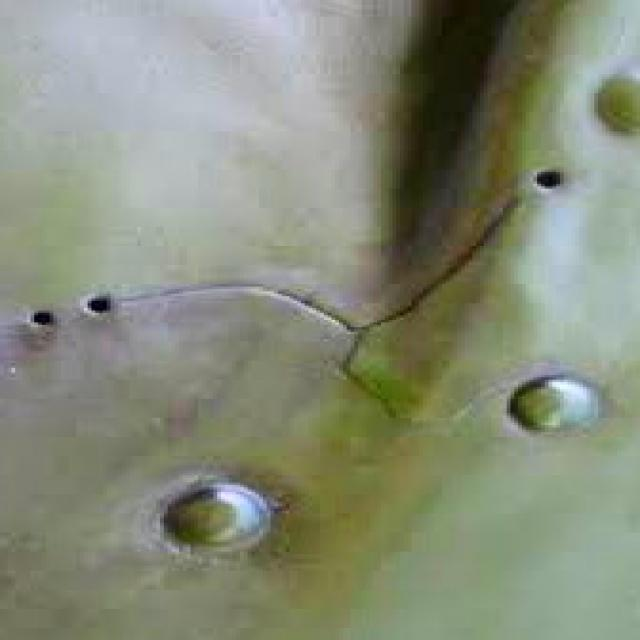crack: (111, 190, 573, 440)
